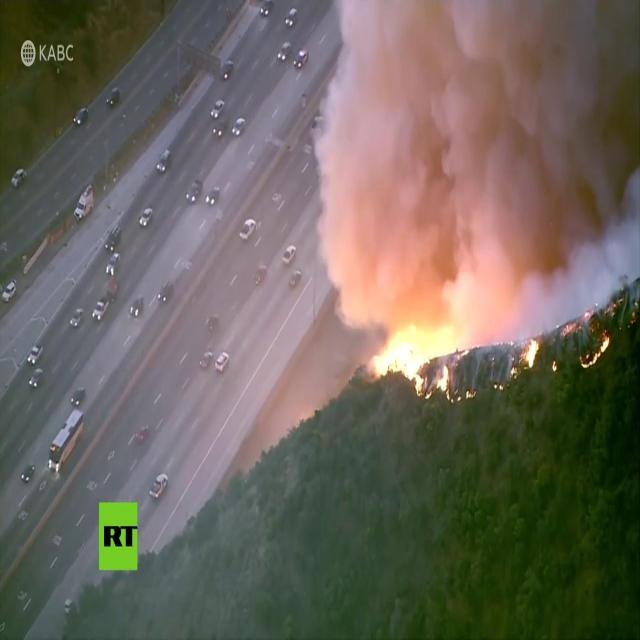Fire: (378, 322, 454, 407), (580, 335, 611, 371), (511, 339, 539, 378), (463, 388, 475, 398)
